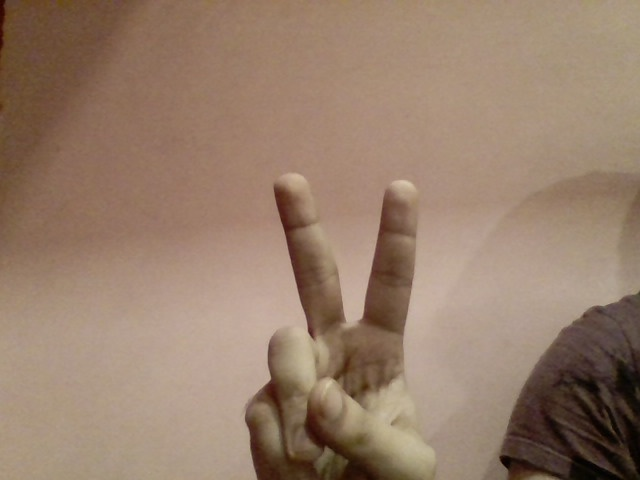v: (218, 166, 454, 480)
